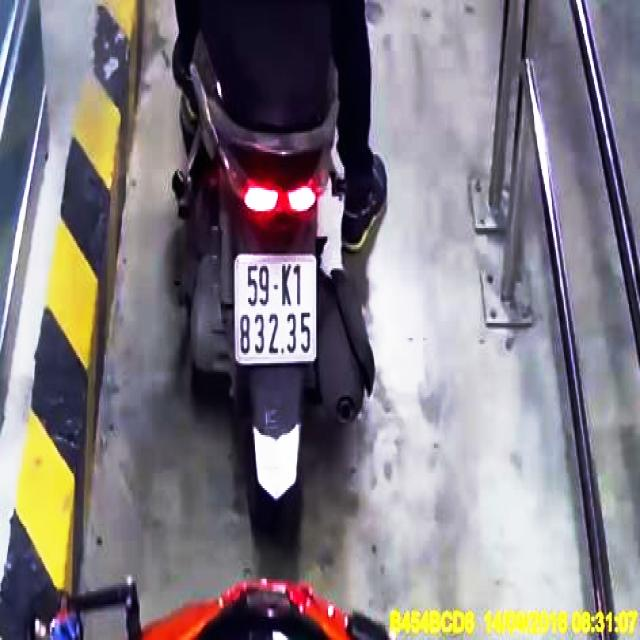license_plate: (237, 258, 316, 366)
